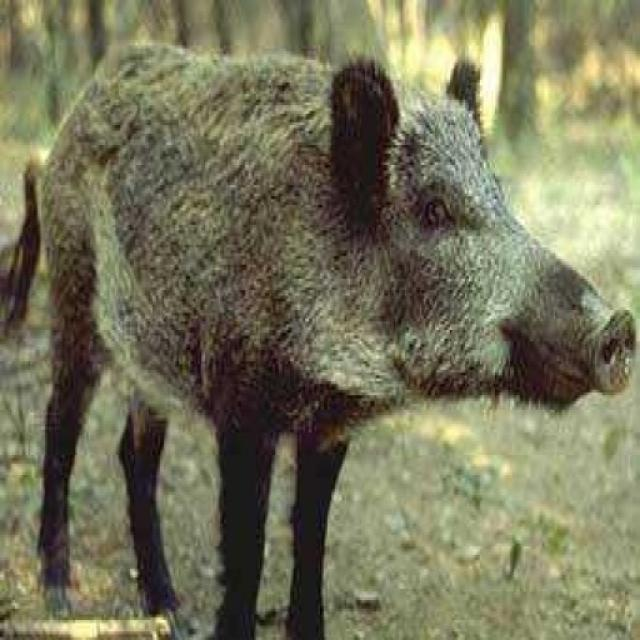pig: (18, 46, 640, 610)
